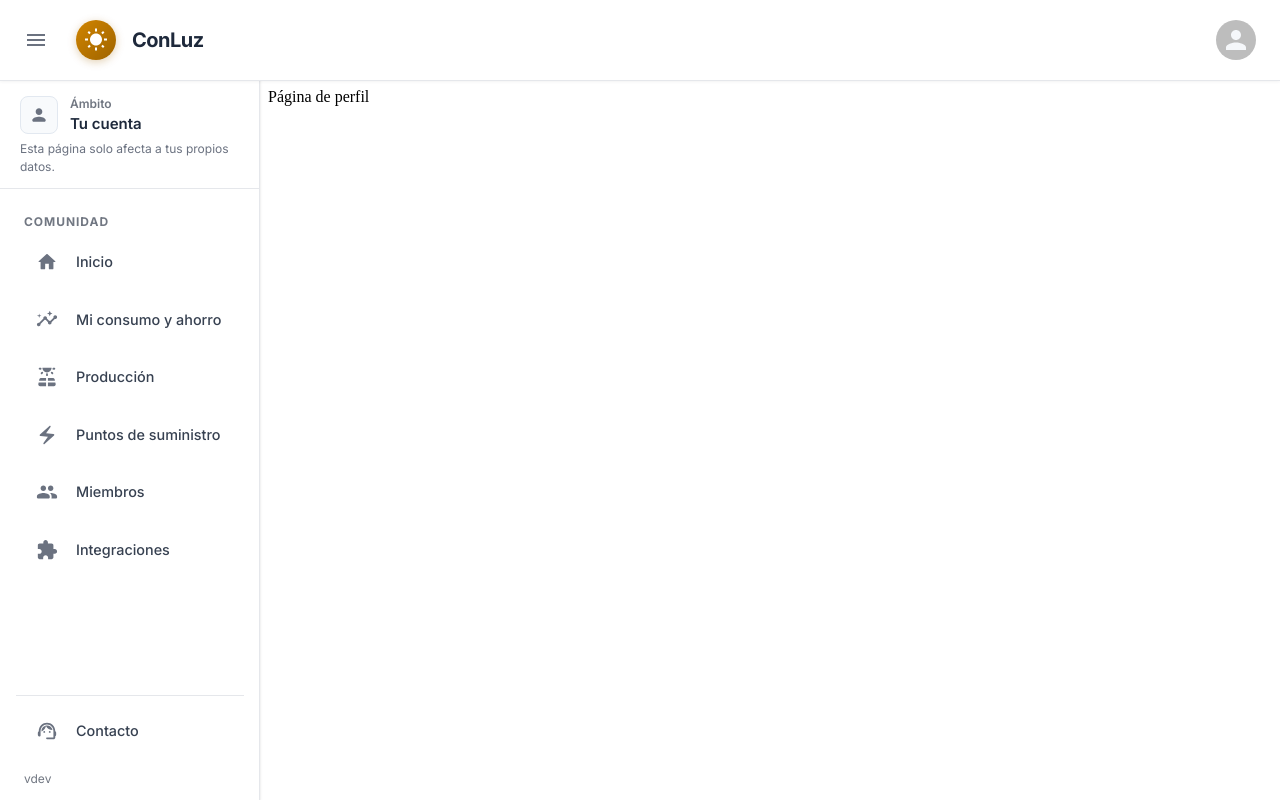
AuthenticatedLayout — the page scope is stated exactly once (AC4) › /profile states 'Tu cuenta' once, in either menu state, and never the community
Expected: the number of elements named "Ámbito de la página" is 1, [0,64,260,189]
Expected: the text "Tu cuenta" is shown once, [70,114,142,133]
Click the button named "menu". click: (36, 40)
box: [12,16,60,64]
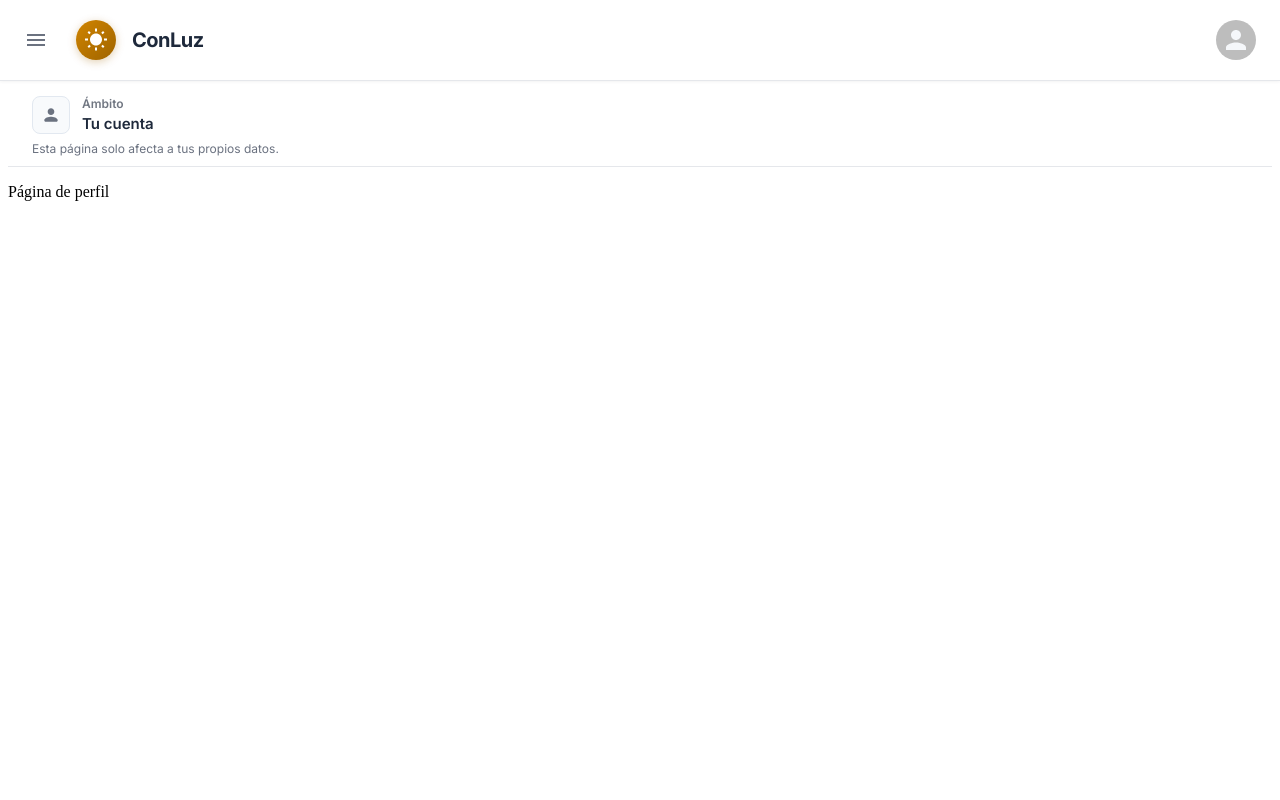
Expected: the number of elements named "Ámbito de la página" is 1, [8,72,1272,167]
Now the text "Tu cuenta" is shown once, box [82,114,154,133]
